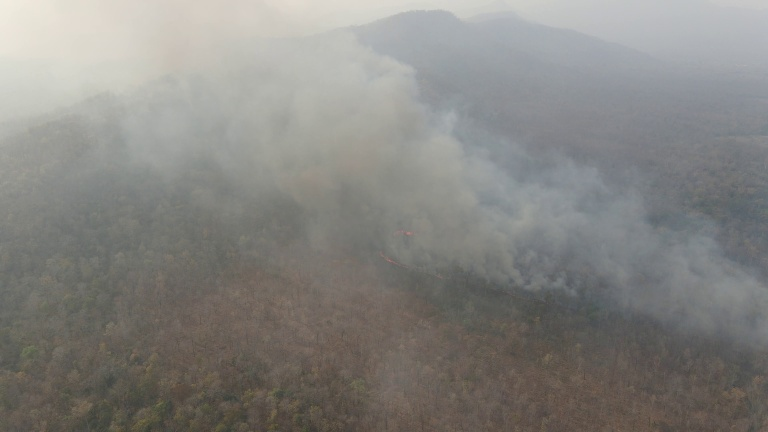fire: (372, 248, 411, 270), (390, 227, 420, 242)
smoke: (131, 1, 573, 287)
